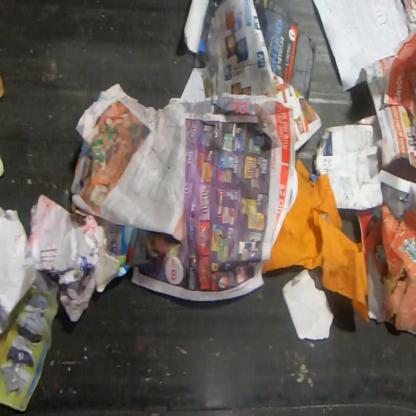cardboard: (355, 203, 415, 336), (252, 0, 316, 104), (183, 0, 211, 54), (0, 72, 7, 98)
